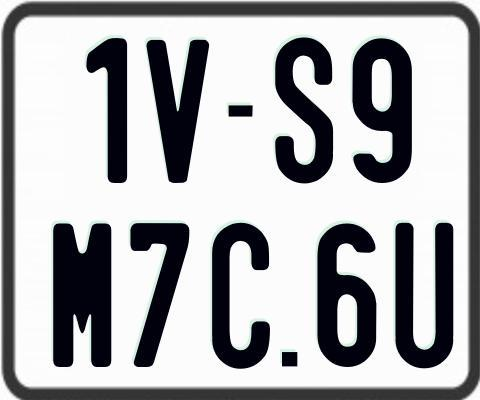1: (83, 37, 128, 187)
6: (317, 222, 381, 371)
7: (129, 223, 189, 367)
9: (349, 36, 410, 184)
C: (211, 220, 269, 368)
M: (53, 221, 114, 370)
S: (272, 34, 330, 181)
U: (392, 223, 453, 369)
V: (143, 37, 210, 181)
